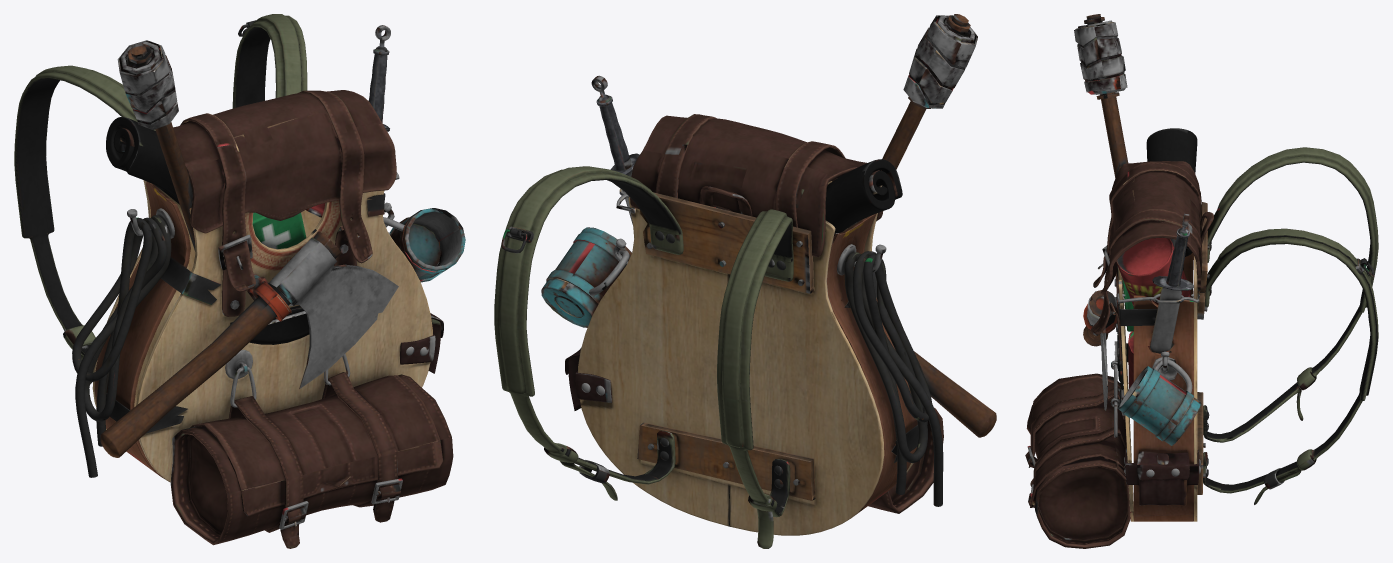
The model's file is backpack.obj.
3 renders of one model, left to right at view 1: azimuth 30°, elevation 25°; view 2: azimuth 150°, elevation 25°; view 3: azimuth 270°, elevation 25°, orthographic. The views are drawn at different scales.
Visible parts, largest first — view 1: default; view 2: default; view 3: default.
Boxes of the visible parts, <box> form: default: <box>14,14,465,548</box>; default: <box>494,14,996,548</box>; default: <box>1025,14,1378,548</box>.
Bounding box in the file's own units: 0.0374 × 0.0463 × 0.0347.
